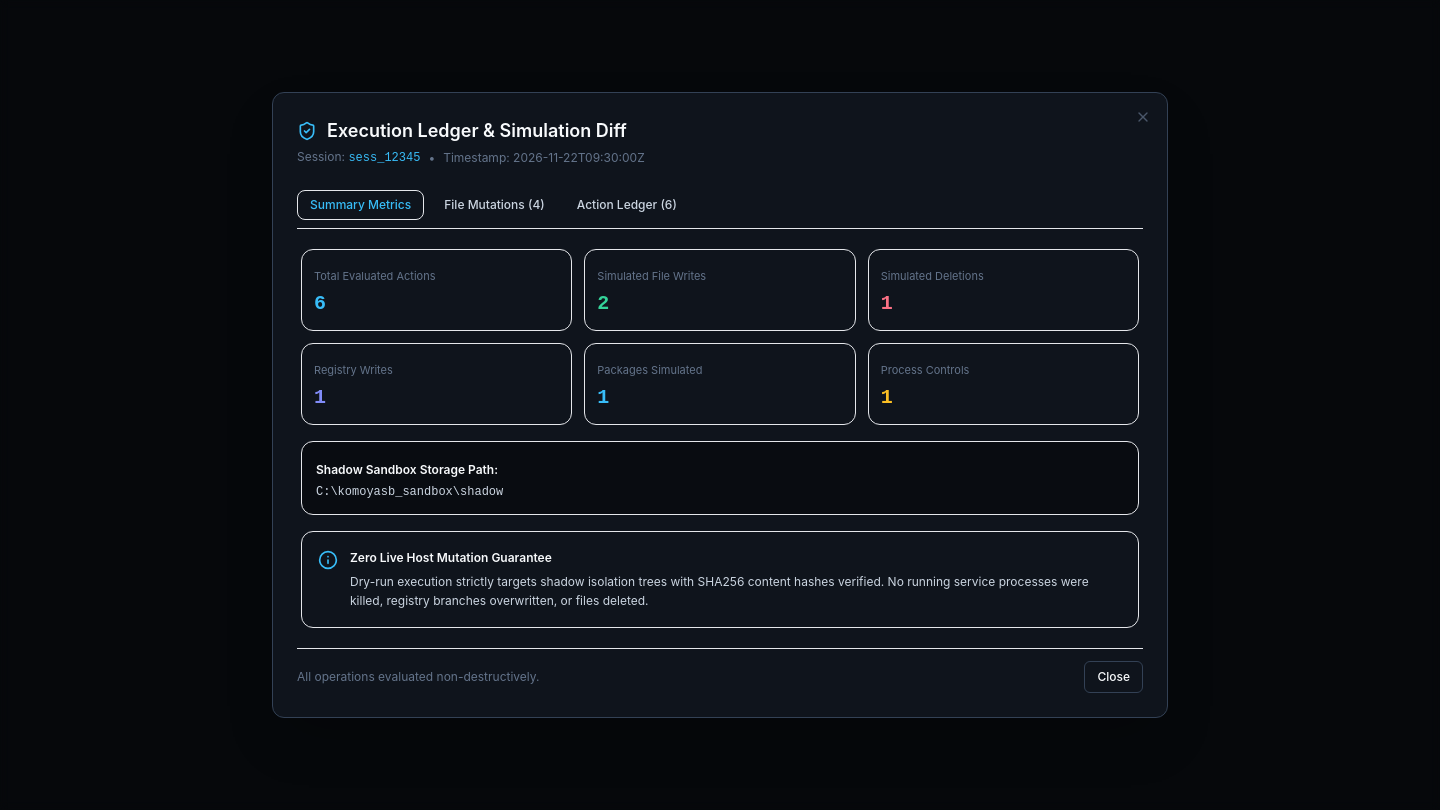
Test: DryRunLedgerModal Component › switches to Action Ledger tab and filters actions by type
Click the button "Action Ledger (6)" at (627, 205), box [565, 191, 689, 219]
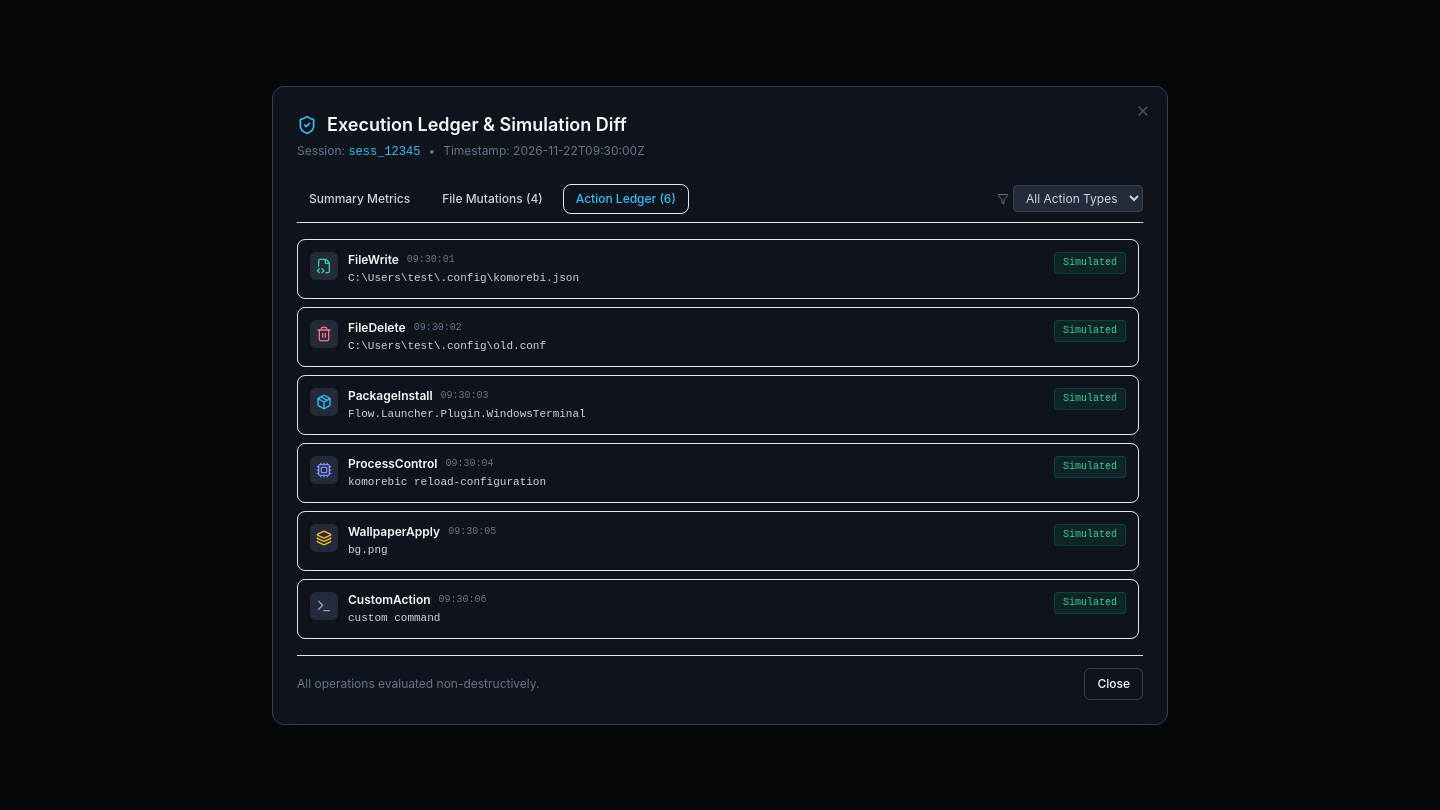
Check: the text "FileWrite" is shown, box [348, 252, 399, 268]
Check: the text "FileDelete" is shown, box [348, 320, 406, 336]
Check: the text "PackageInstall" is shown, box [348, 388, 433, 404]
// Filter by FileWrite
Select "File Writes" in the dropdown at (1078, 198), box [1013, 185, 1143, 212]
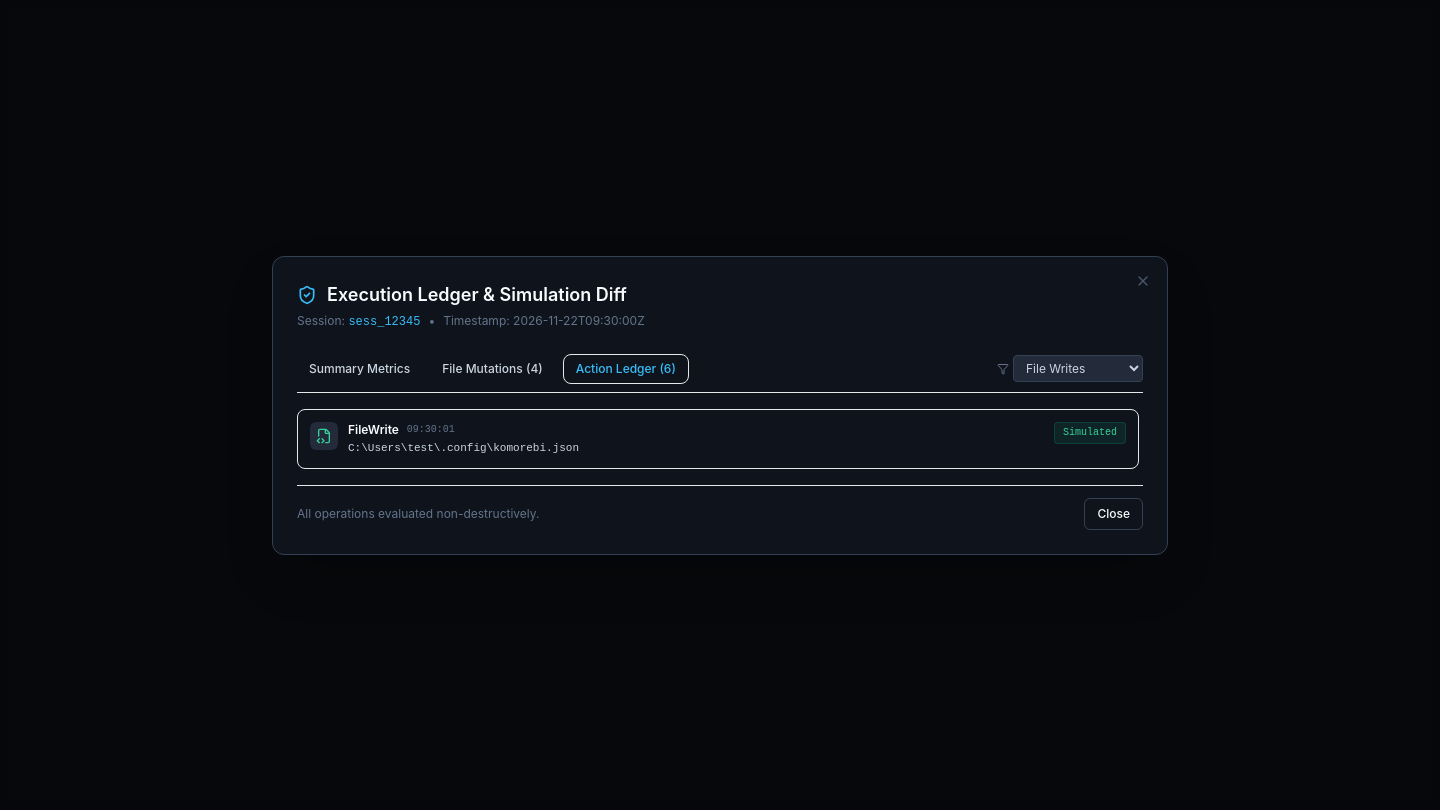
Check: the text "C:\\Users\\test\\.config\\komorebi.json" is shown, box [348, 440, 579, 456]
Check: the text "Flow.Launcher.Plugin.WindowsTerminal" is gone
// Switch back to summary tab
Click the button "Summary Metrics" at (360, 368), box [297, 354, 422, 382]
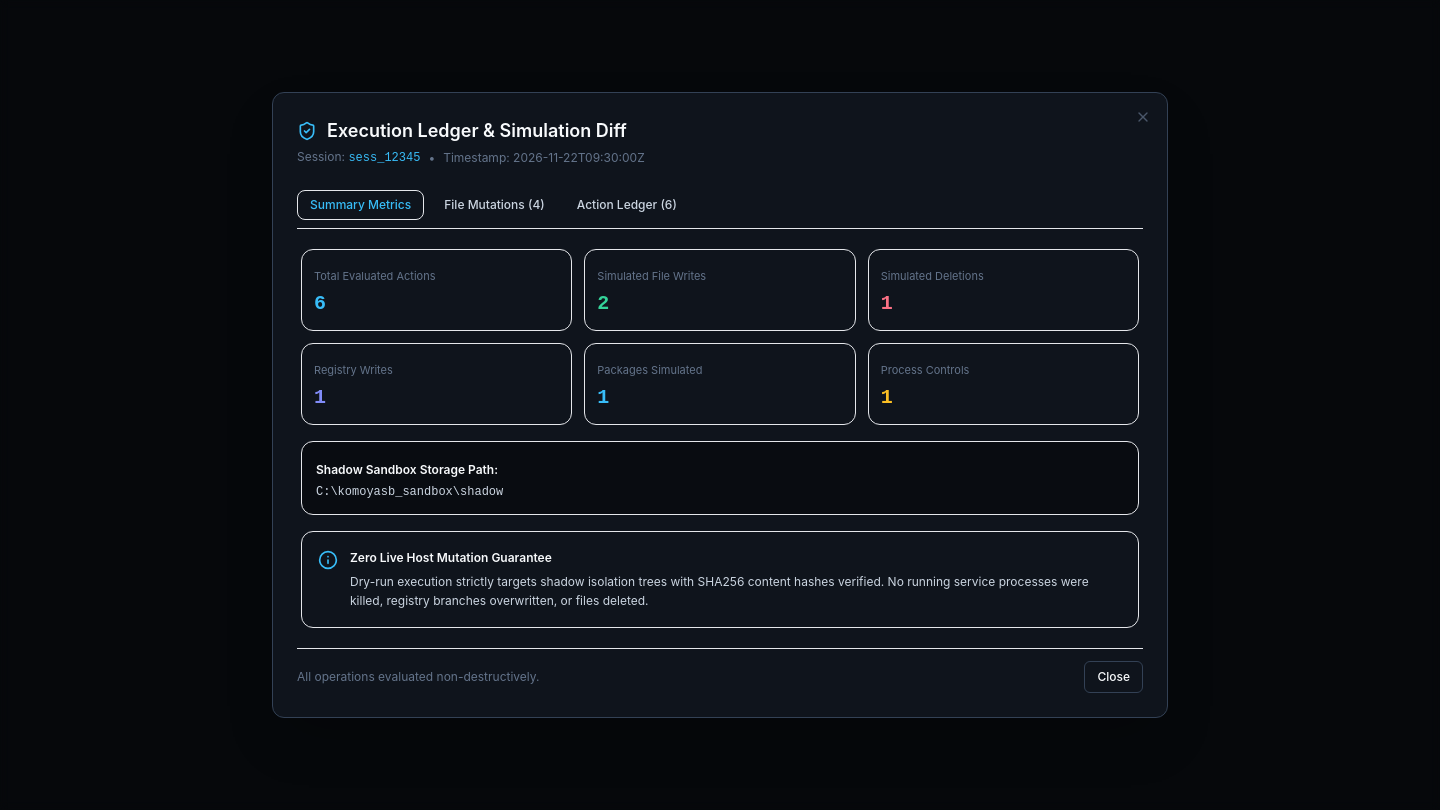
Check: the text "Total Evaluated Actions" is shown, box [314, 269, 436, 283]
